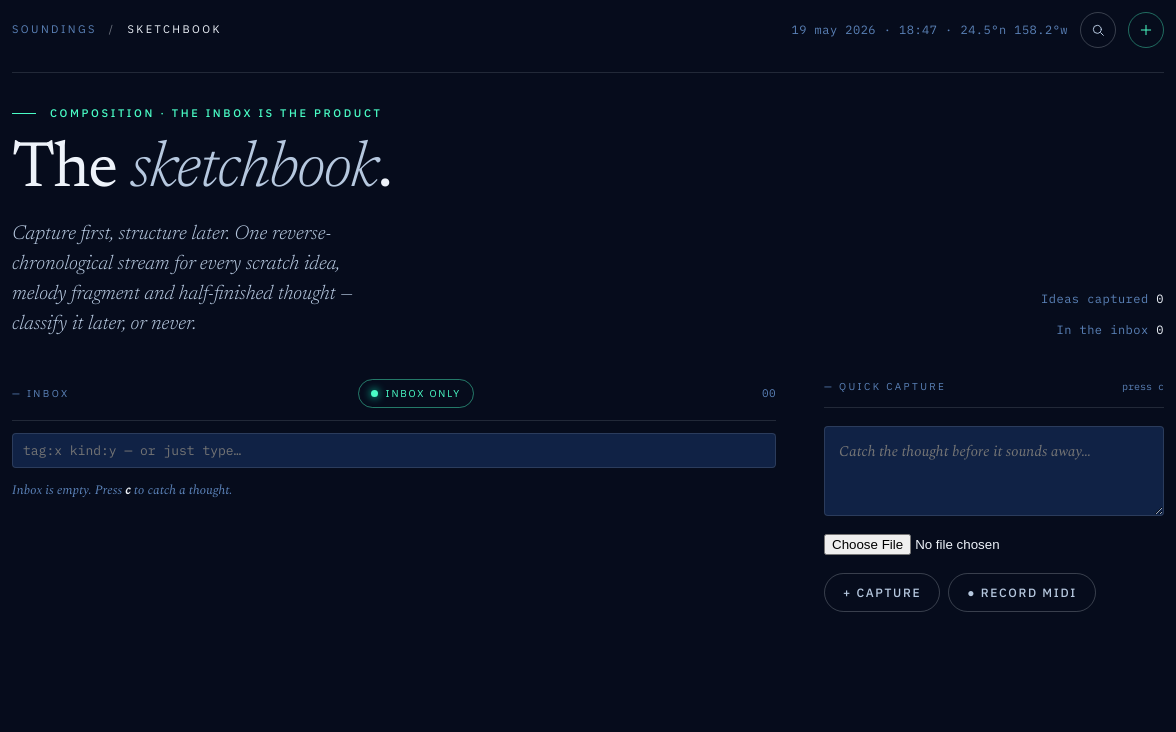
Test: SketchbookLive with a backend (local build) › Record MIDI (SB7) › a scripted note on/off, stopped by hand, uploads a .mid asset with role: melody
The width and height of the screenshot is (1176, 732).
Click the button "● record MIDI" at (1022, 592), box [948, 573, 1096, 612]
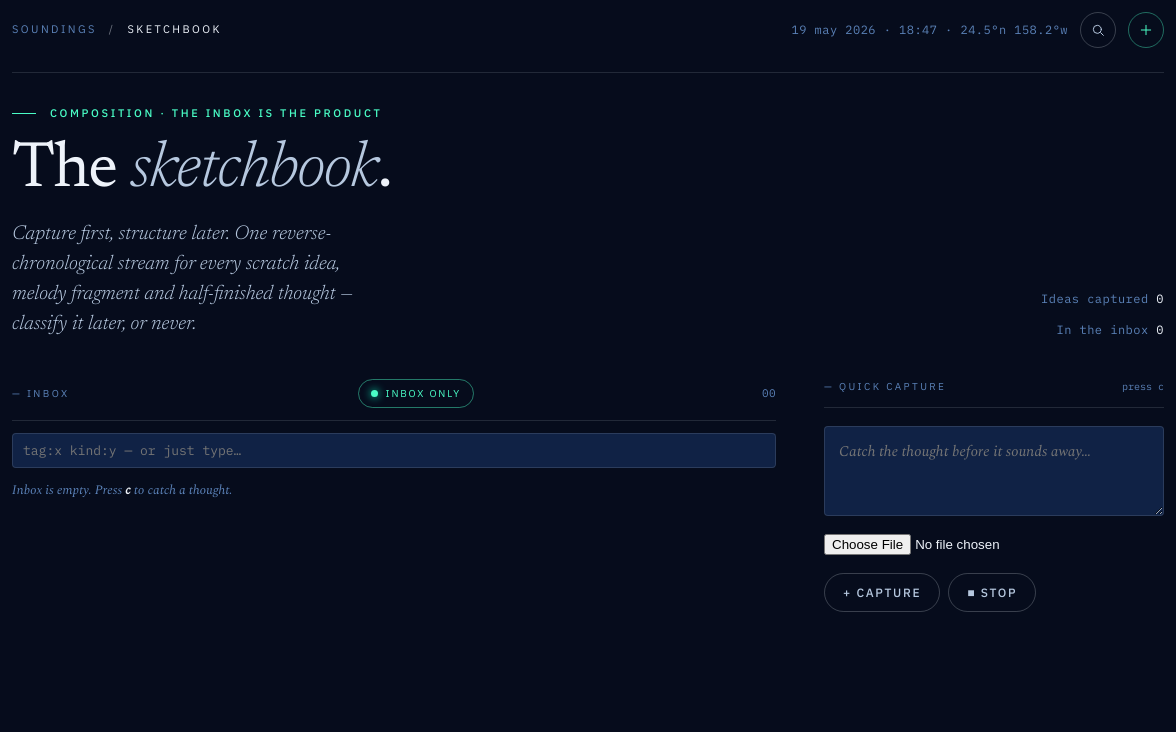
Now the button "■ stop" is shown
Click the button "■ stop" at (992, 592), box [948, 573, 1036, 612]
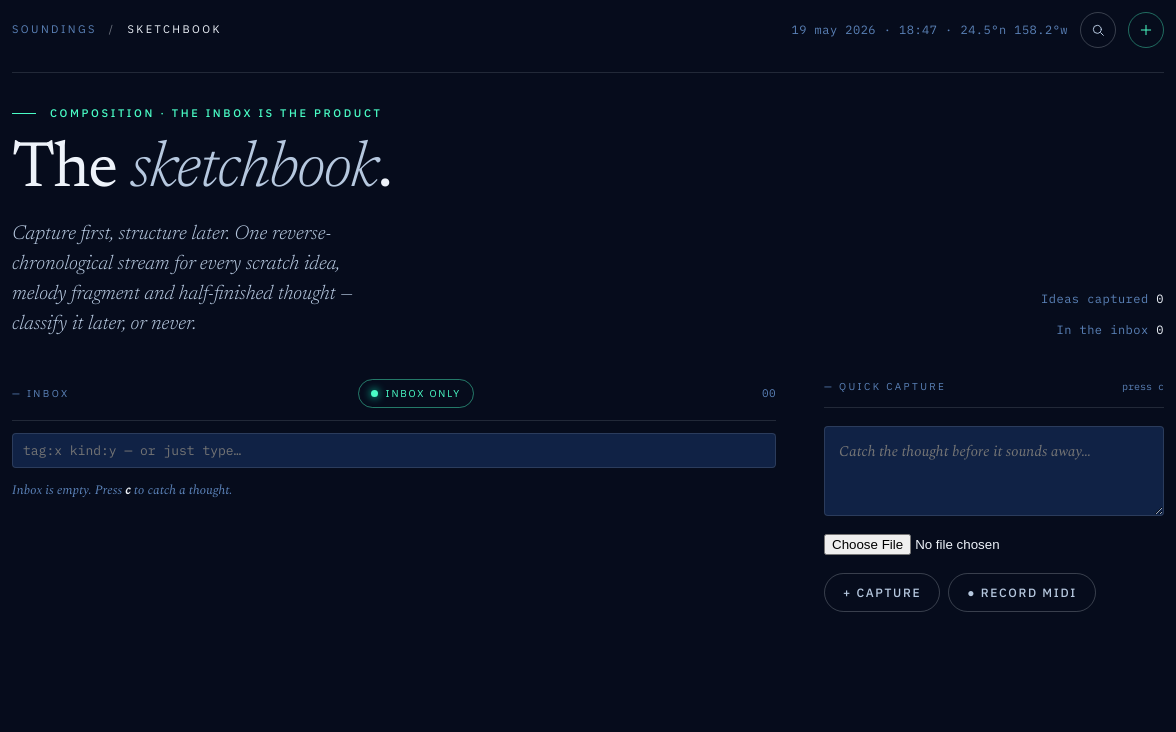
Now the button "● record MIDI" is shown, box [948, 573, 1096, 612]
